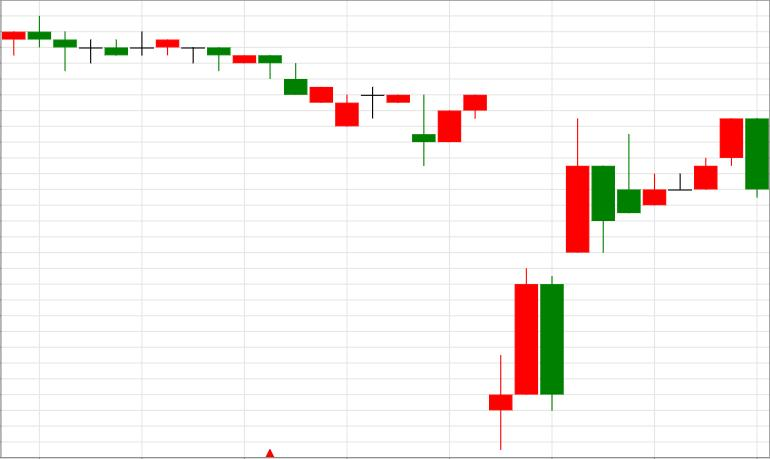bearish_engulfing_fall: (541, 119, 769, 410)
